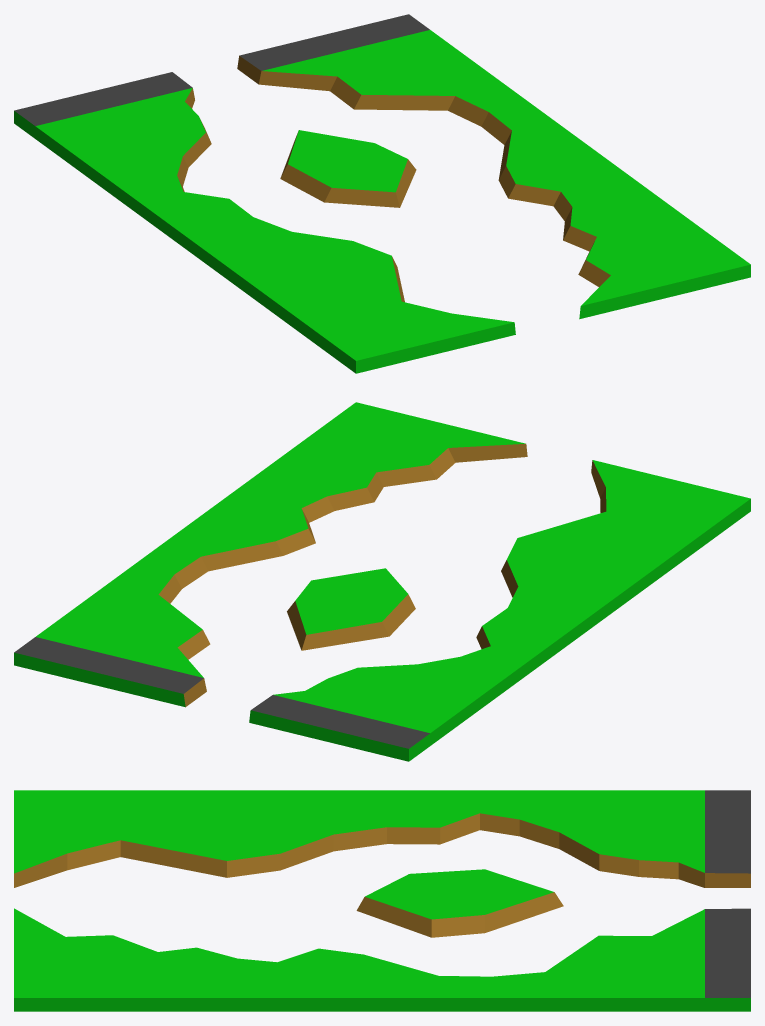
The model's file is ground_02_01.fbx.
3 renders of one model, top to bottom at view 1: azimuth 30°, elevation 25°; view 2: azimuth 150°, elevation 25°; view 3: azimuth 270°, elevation 25°, orthographic. The views are drawn at different scales.
Parts seen in each view (by area): view 1: Cube.001; view 2: Cube.001; view 3: Cube.001.
Boxes of the visible parts, x1,y1,x2,y2 form: Cube.001: (14, 14, 750, 373); Cube.001: (14, 402, 750, 761); Cube.001: (14, 790, 750, 1011).
Bounding box in the file's own units: 74.66 × 2.32 × 112.
